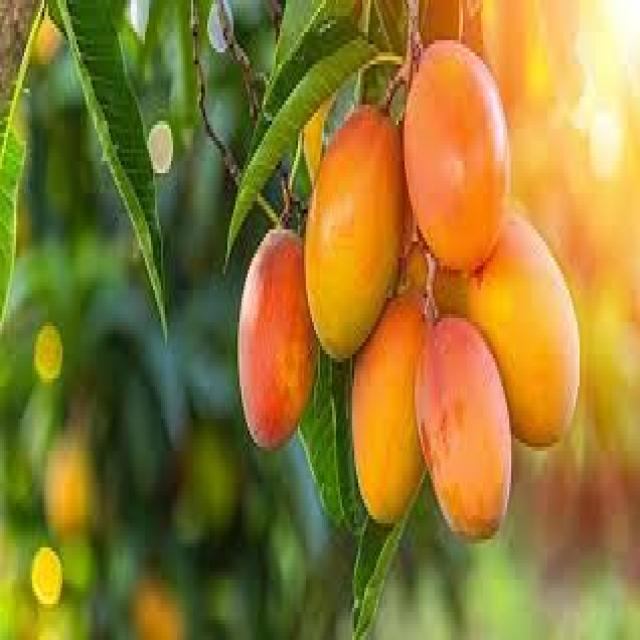Mango: (393, 46, 522, 286), (301, 110, 406, 357), (468, 229, 582, 451), (416, 328, 515, 539), (241, 239, 313, 449), (360, 315, 428, 516)
